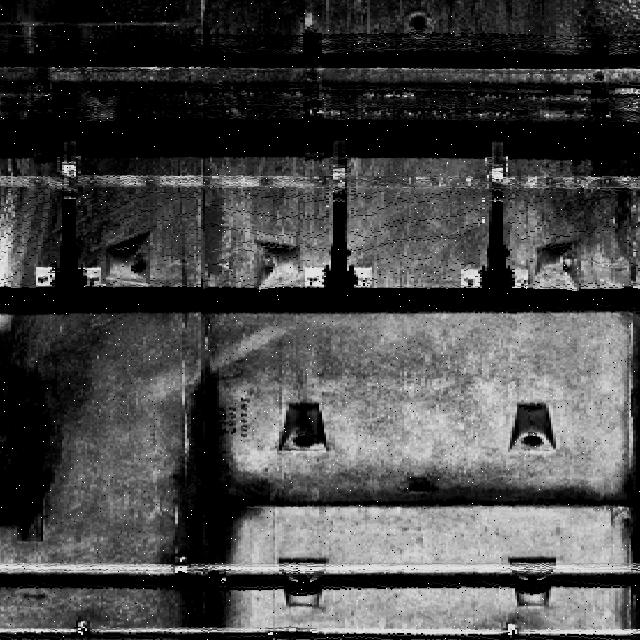leakage: (152, 363, 276, 640), (3, 315, 95, 544)
